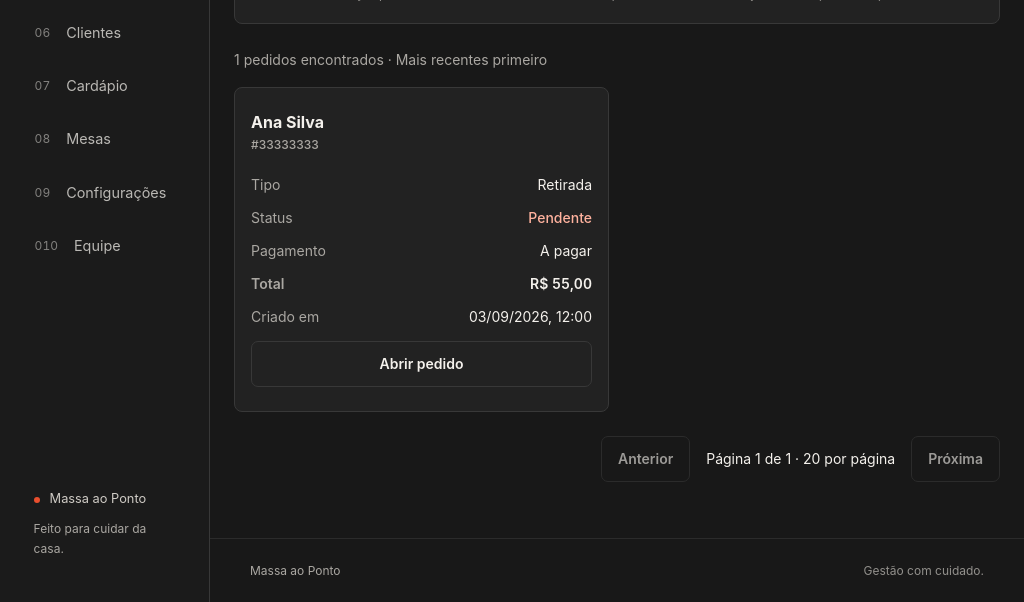
Test: Orders UI › handles empty addons, omitted=false
(page scrolled)
Click the button "Abrir pedido".
click(422, 364)  # box [251, 341, 592, 387]
(page scrolled)
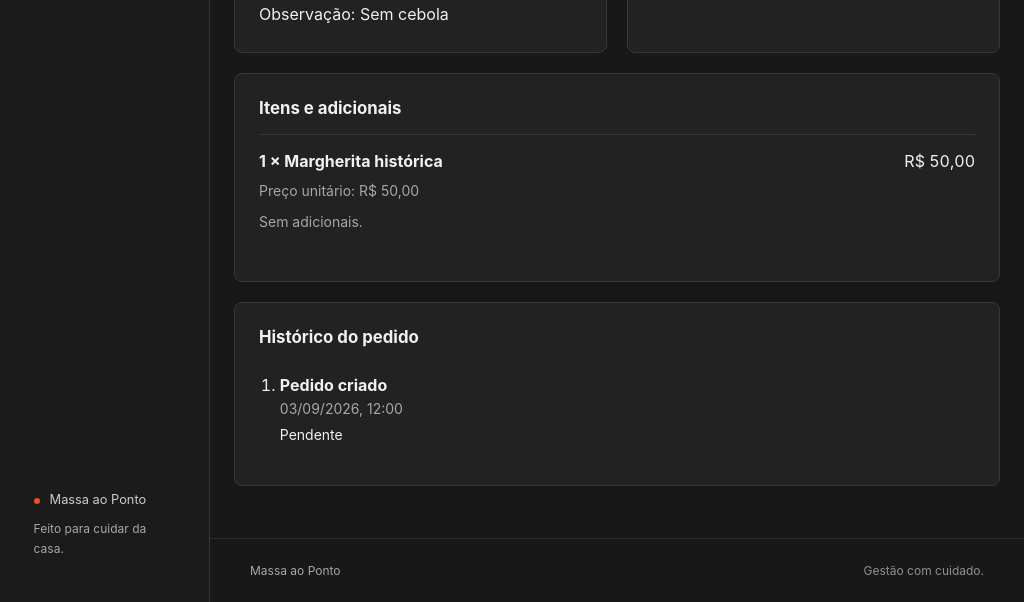
expect the text "Sem adicionais." is shown: met, box [259, 213, 363, 230]
